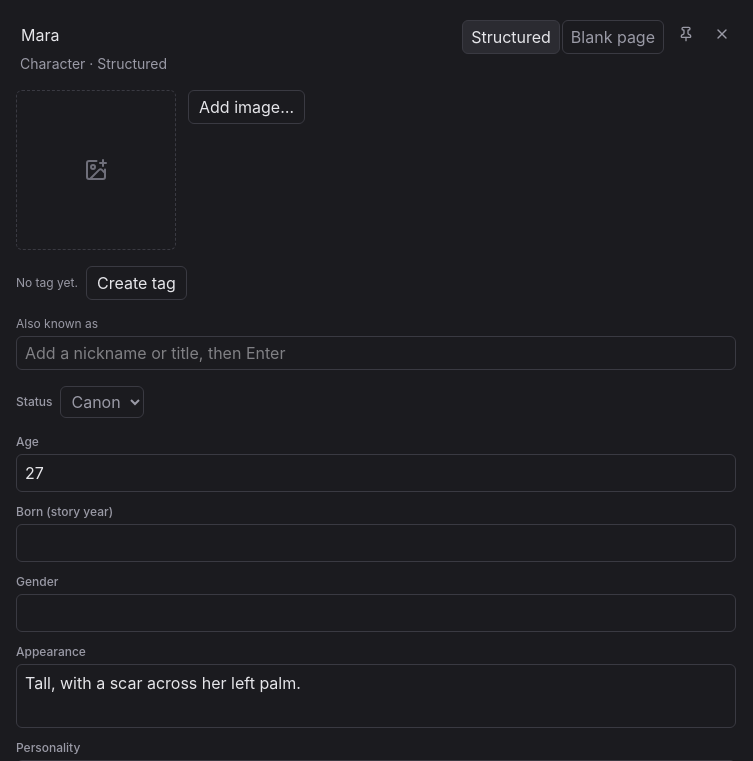
Test case: EntityEditor (F-9.3) › pins the entity to References and unpins it again, opening the panel (F-9.6)
What coordinates should you click on to do the following:
click the button named "Pin to References"
I would click on:
 (686, 34)
Its box is [672, 20, 700, 48].
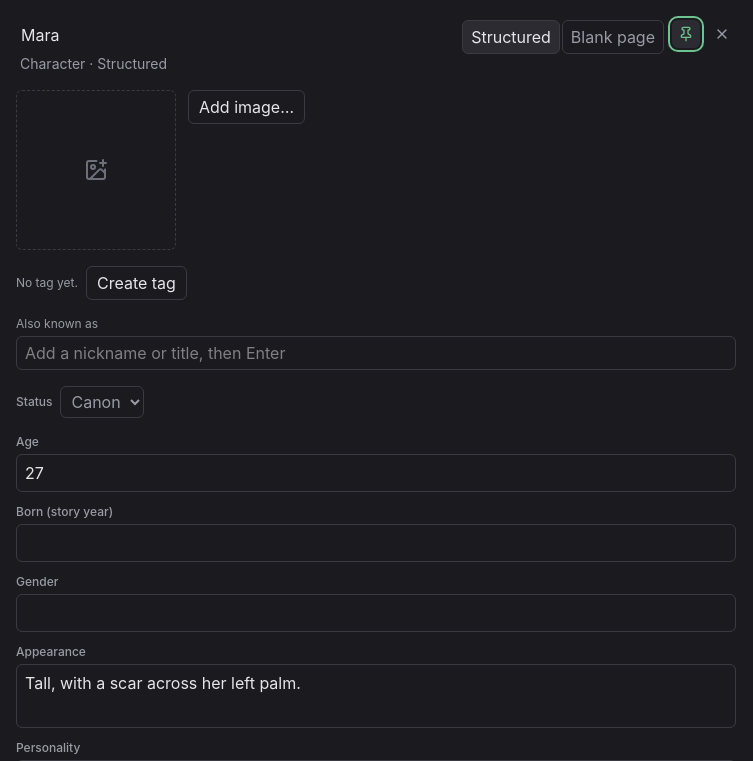
Expected: the button named "Unpin from References" is pressed
What coordinates should you click on to do the following:
click the button named "Unpin from References"
I would click on:
 (686, 34)
Its box is [672, 20, 700, 48].
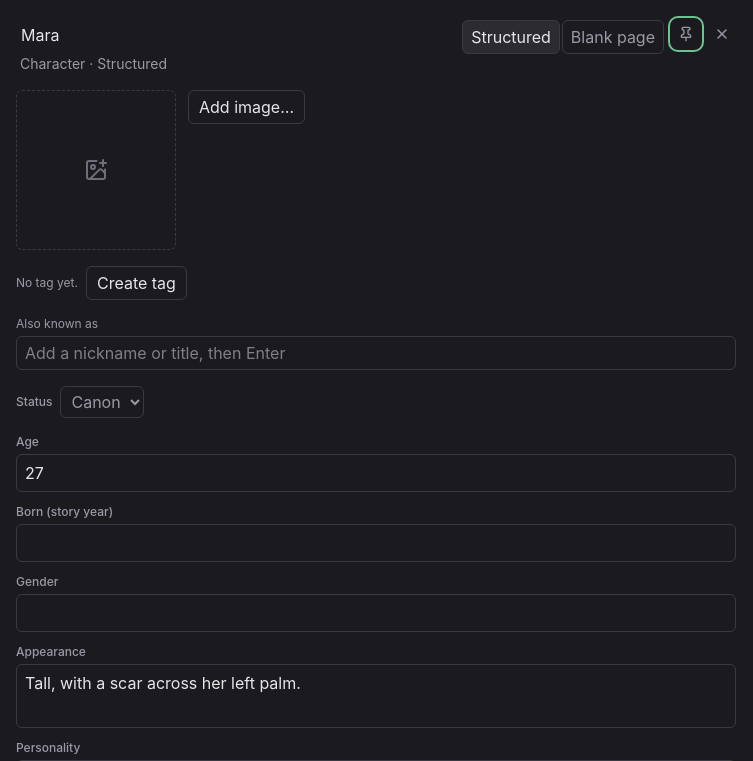
Expected: the button named "Pin to References" is shown, [672, 20, 700, 48]
